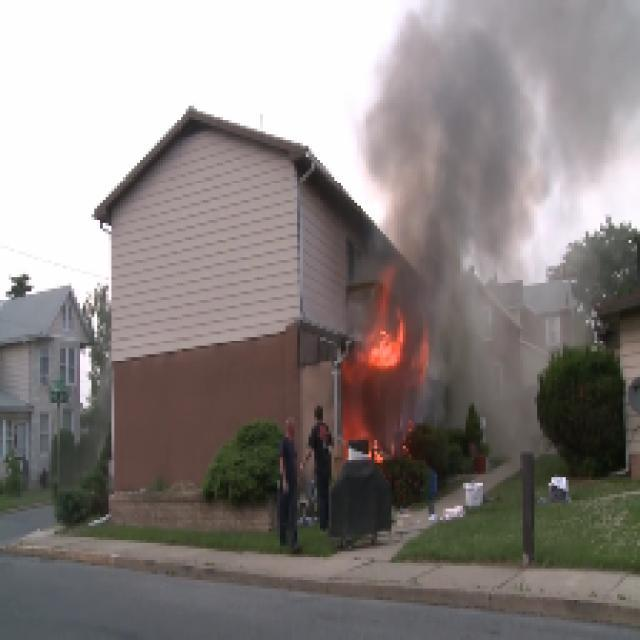Fire: (334, 260, 440, 494)
Smoke: (331, 0, 640, 280)
